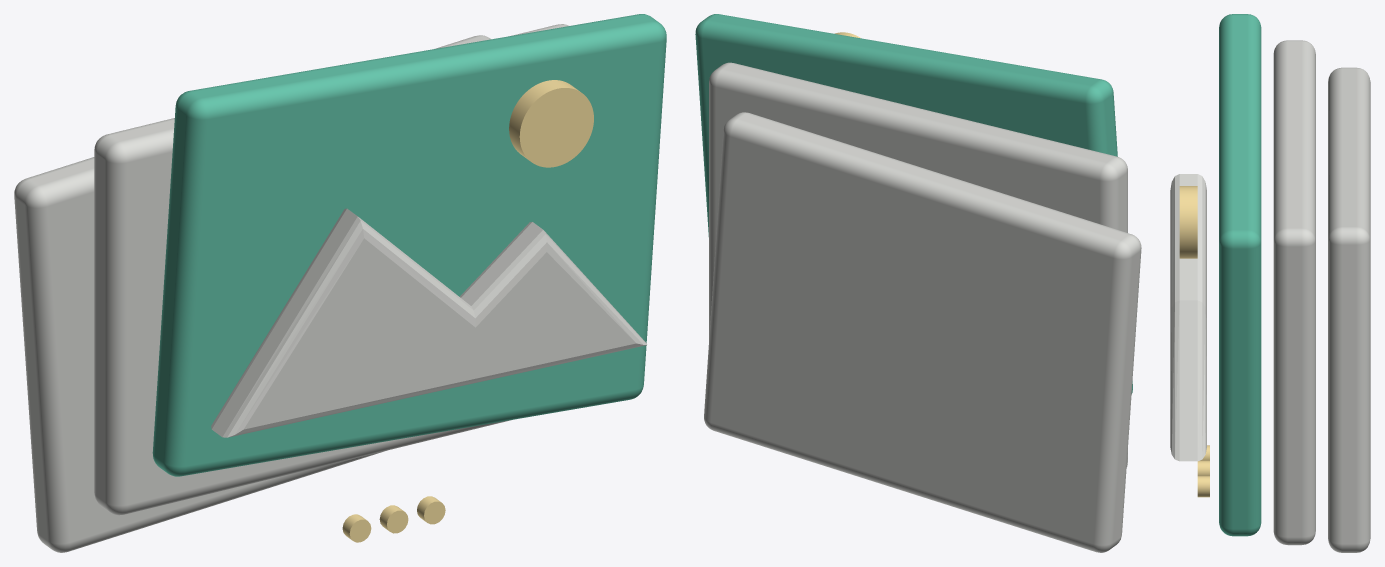
Rendered from data-image.glb.
The picture shows the model from 3 angles, left to right: view 1: azimuth 30°, elevation 25°; view 2: azimuth 150°, elevation 25°; view 3: azimuth 270°, elevation 25°; orthographic projection. The views are drawn at different scales.
Visible parts, largest first — view 1: component (×5); view 2: component (×3); view 3: component (×6).
Boxes of the visible parts, x1,y1,x2,y2 form: component (×5): (14, 14, 666, 552); component (×3): (695, 14, 1141, 552); component (×6): (1170, 14, 1370, 552).
Size of the model in its own units: 0.0372 by 0.0298 by 0.0132.
